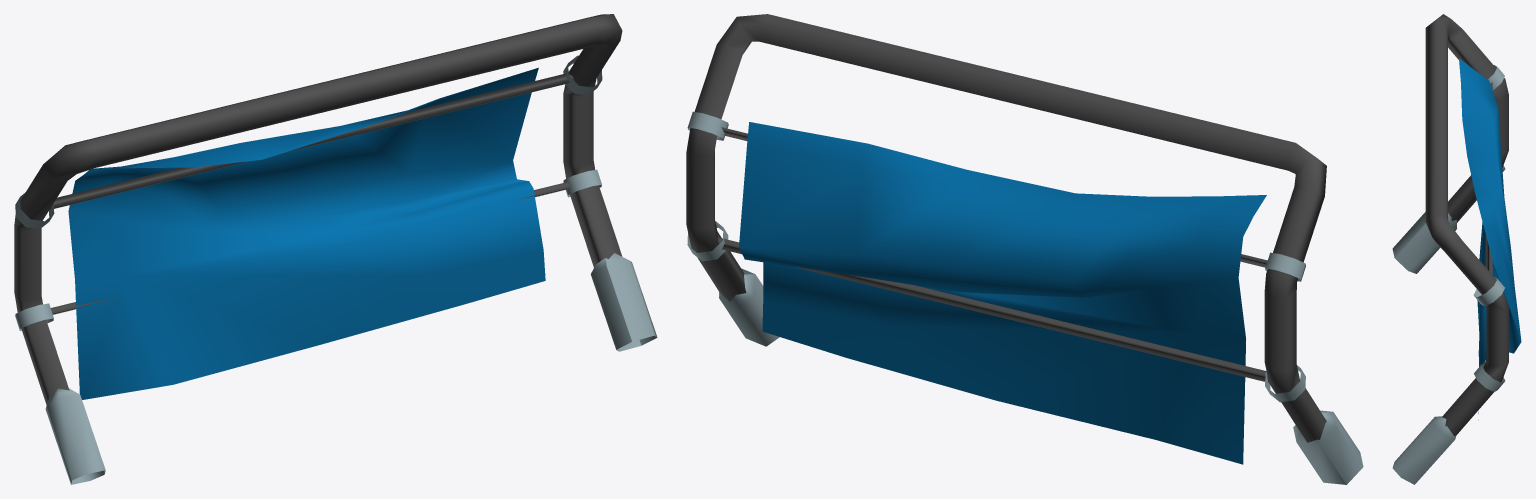
The model's file is env_building_warehouse01fence01B_lod2.fbx.
3 views of the same model, side by side, from view 1: azimuth 30°, elevation 25°; view 2: azimuth 150°, elevation 25°; view 3: azimuth 270°, elevation 25° (orthographic). The views are drawn at different scales.
Parts seen in each view (by area): view 1: env_building_warehouse01fence01B_lod2; view 2: env_building_warehouse01fence01B_lod2; view 3: env_building_warehouse01fence01B_lod2.
Part boxes in pixels (x1,y1,x2,y2): env_building_warehouse01fence01B_lod2: (14,14,657,484); env_building_warehouse01fence01B_lod2: (686,14,1363,484); env_building_warehouse01fence01B_lod2: (1392,14,1521,484).
Bounding box in the file's own units: 61.65 × 33.05 × 14.86.
